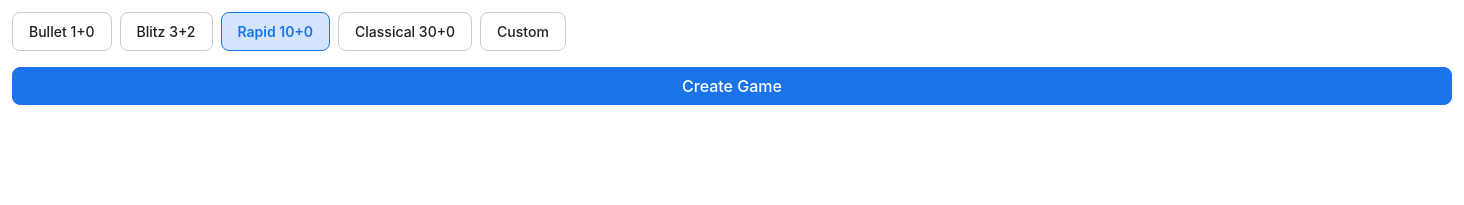
Scenario: CreateGameForm › shows custom inputs when Custom is selected
Click the button "Custom". click: (523, 32)
box: x1=480 y1=12 x2=566 y2=51
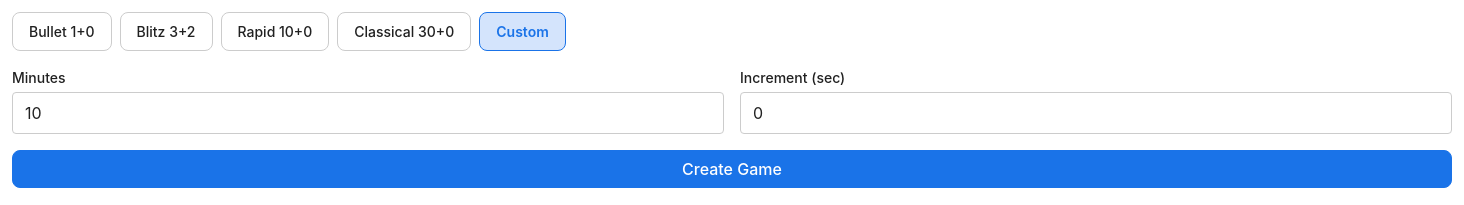
Expected: the number field labelled "Minutes" is shown, x1=12 y1=92 x2=724 y2=134
Expected: the number field labelled "Increment (sec)" is shown, x1=740 y1=92 x2=1452 y2=134
